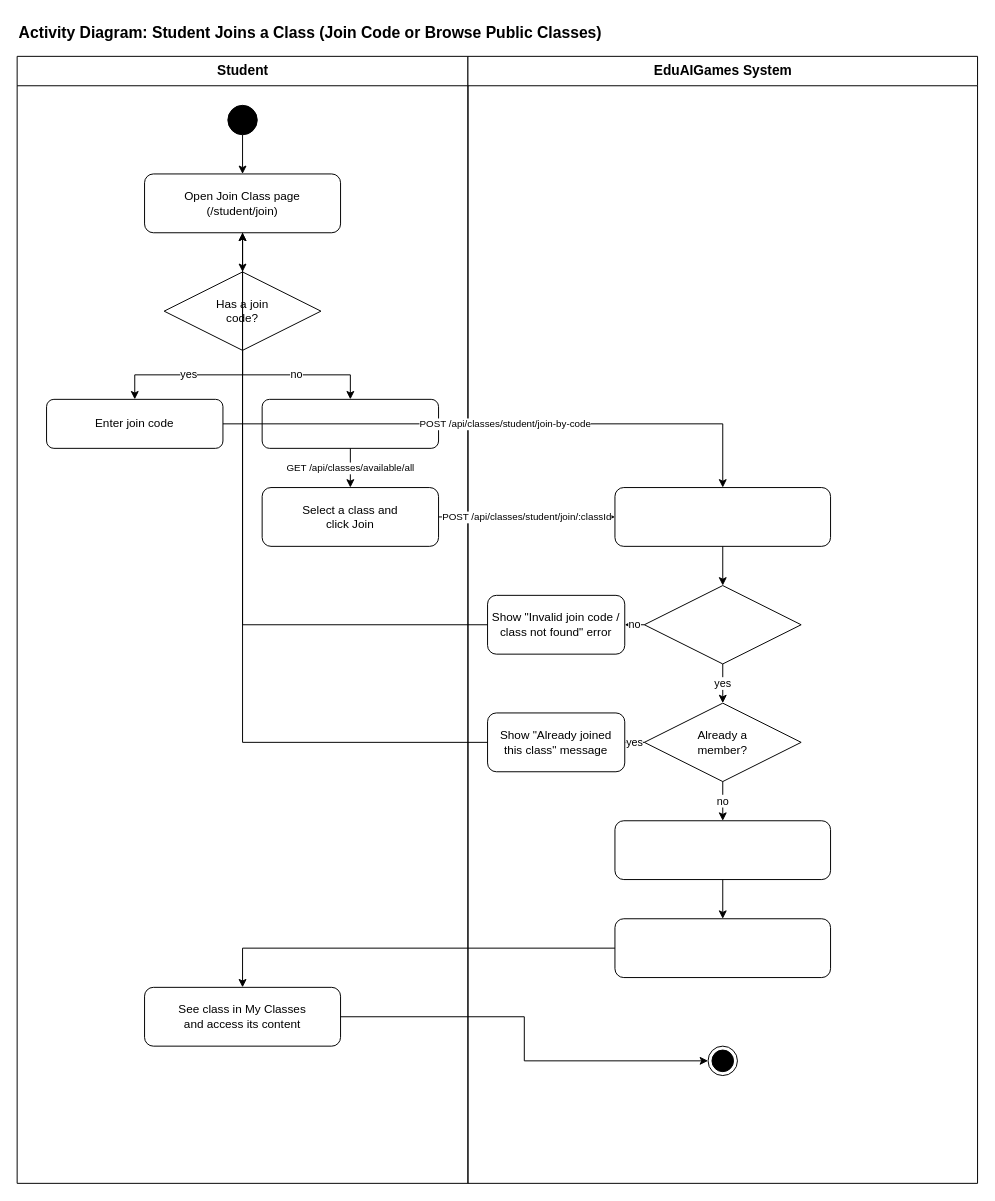
The diagram is 995 pixels wide and 1201 high, and some of its shapes have lost their labels. The centre of each missing label's shape, as x and y in pixels:
Browse public classes list: [350,423]
Class exists?: [722,624]
Create notification for instructor: "student joined your class": [722,948]
Insert row into class_memberships (unique student_id + class_id): [722,850]
Look up class by join_code or class id: [722,516]
